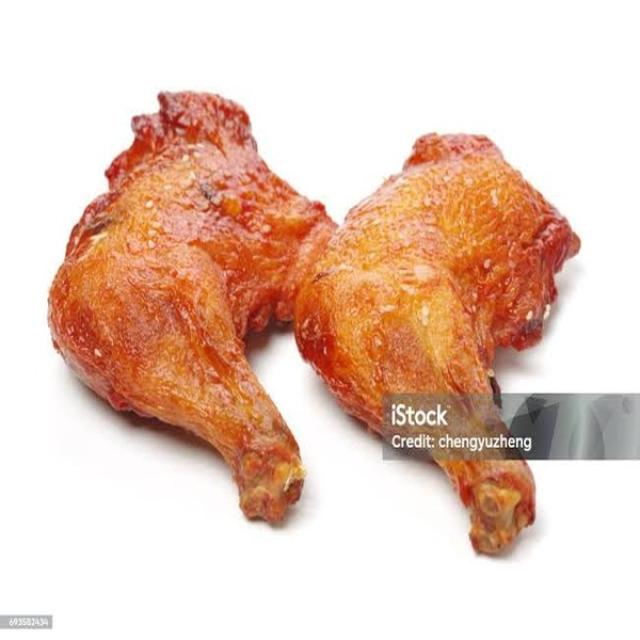CHICKEN FRY: (42, 90, 574, 526)
